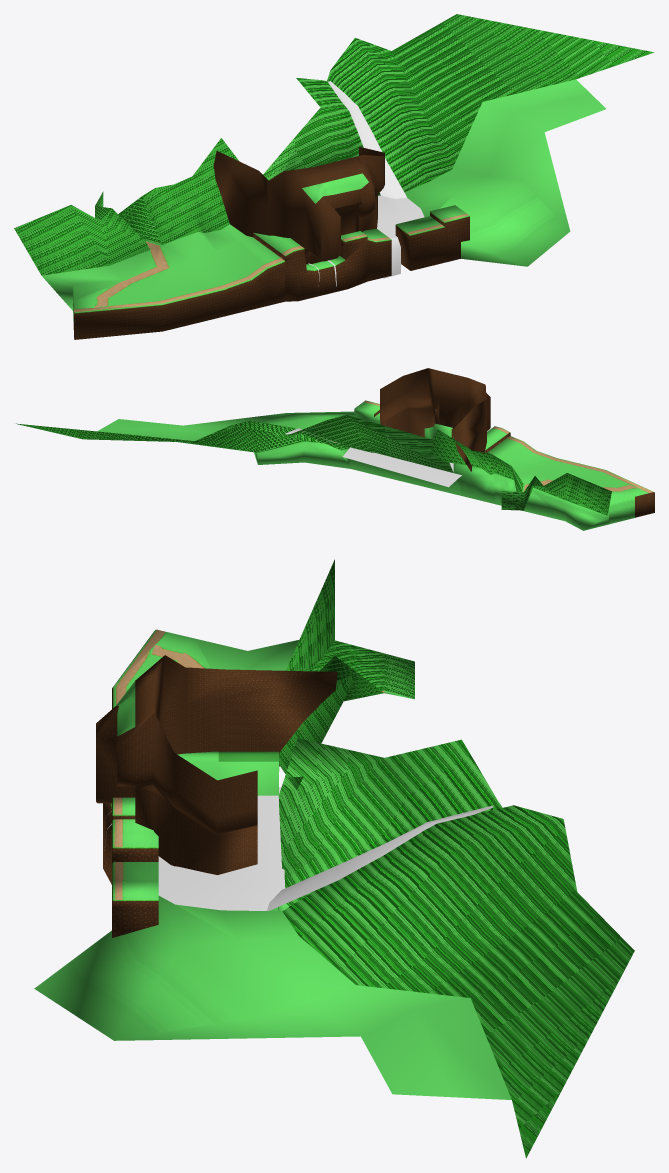
3 renders of one model, top to bottom at view 1: azimuth 30°, elevation 25°; view 2: azimuth 150°, elevation 25°; view 3: azimuth 270°, elevation 25°, orthographic. The views are drawn at different scales.
Visible parts, largest first — view 1: Cube, Plane.001, WaterFall; view 2: Cube, WaterFall; view 3: Cube, WaterFall, Plane.001.
Part boxes in pixels (box(x1,y1,x2,y2)): Cube: box(14, 14, 654, 339); Plane.001: box(308, 81, 406, 286); WaterFall: box(377, 195, 424, 237); Cube: box(16, 368, 654, 530); WaterFall: box(342, 447, 461, 487); Cube: box(34, 559, 634, 1158); WaterFall: box(158, 787, 284, 910); Plane.001: box(104, 805, 493, 910).
Size of the model in its own units: 5464 by 922 by 2583.
